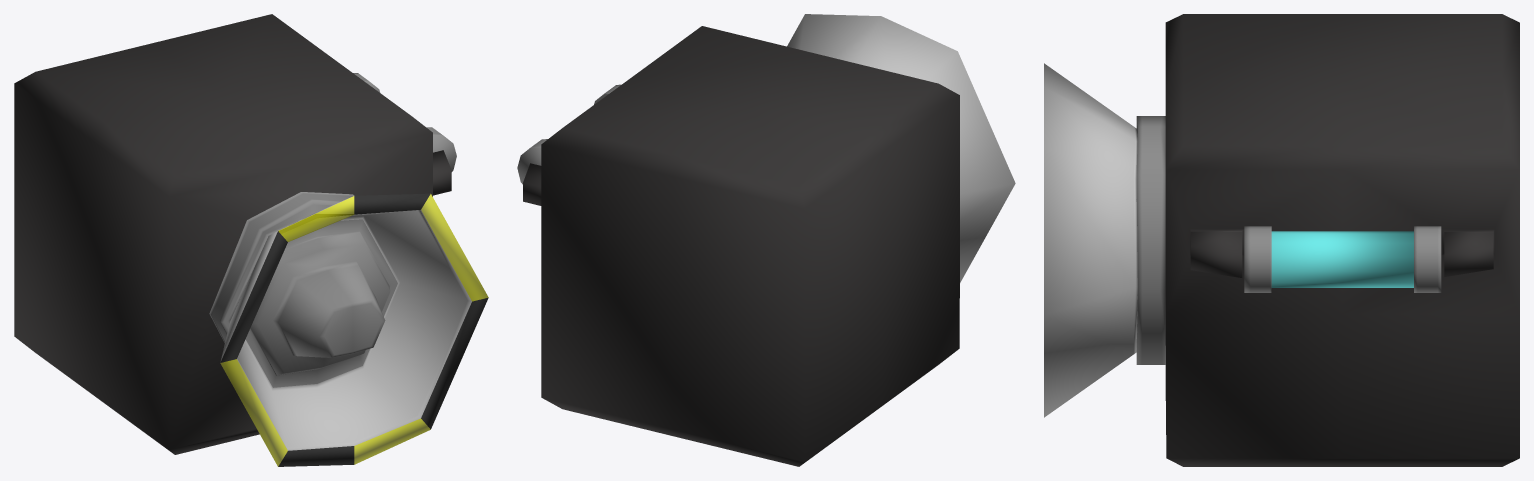
File: succionadorEnergia.fbx
3 renders of one model, left to right at view 1: azimuth 30°, elevation 25°; view 2: azimuth 150°, elevation 25°; view 3: azimuth 270°, elevation 25°, orthographic. The views are drawn at different scales.
Visible parts, largest first — view 1: Cube; view 2: Cube; view 3: Cube.
Part boxes in pixels (<box>): Cube: <box>14,14,488,466</box>; Cube: <box>517,14,1015,466</box>; Cube: <box>1044,14,1519,466</box>.
Size of the model in its own units: 241 by 200 by 269.
